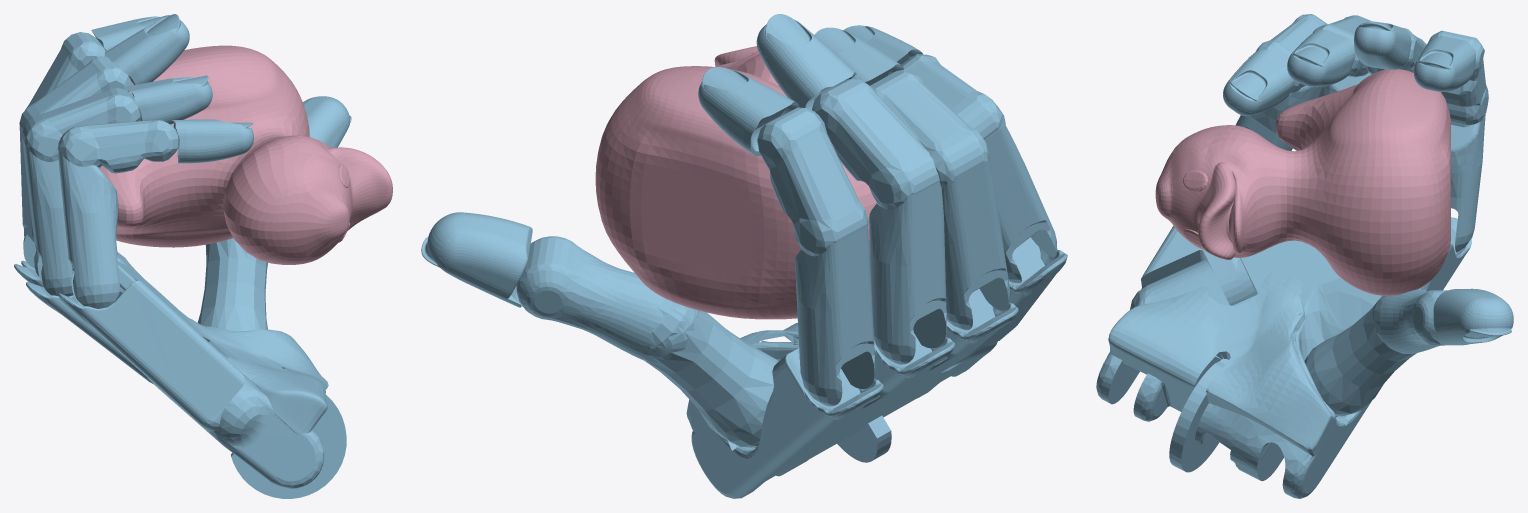
3 views of the same model, side by side, from view 1: azimuth 30°, elevation 25°; view 2: azimuth 150°, elevation 25°; view 3: azimuth 270°, elevation 25° (orthographic). The views are drawn at different scales.
Parts seen in each view (by area): view 1: world; view 2: world; view 3: world.
Part boxes in pixels (x1=…): world: x1=14, y1=14, x2=392, y2=498; world: x1=421, y1=14, x2=1067, y2=498; world: x1=1096, y1=14, x2=1513, y2=498.
Bounding box in the file's own units: 0.1525 × 0.1567 × 0.1355.
